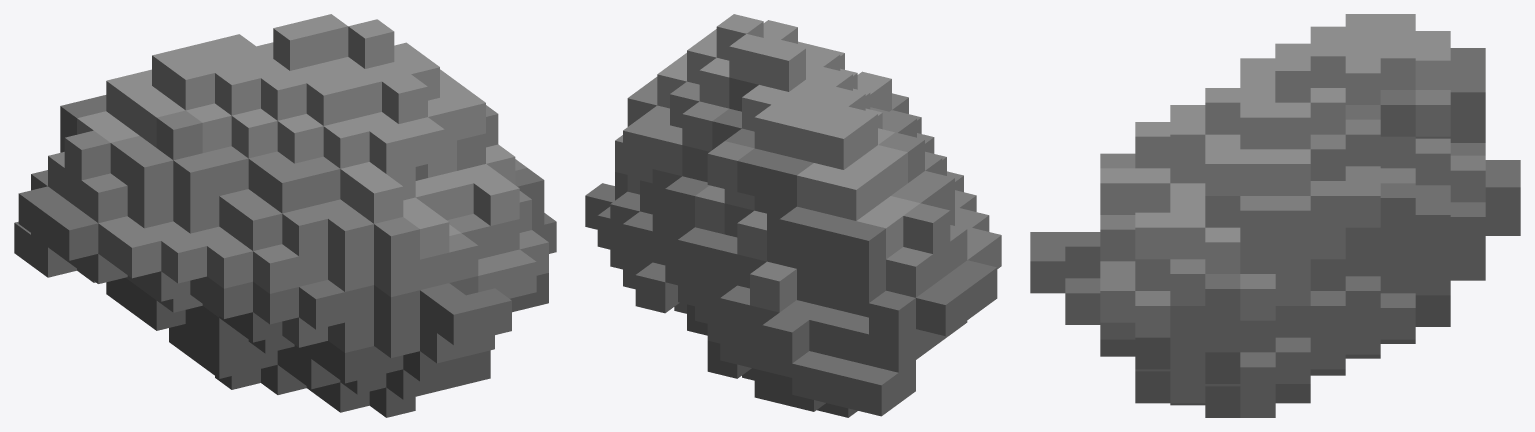
File: Rock_01.obj
3 views of the same model, side by side, from view 1: azimuth 30°, elevation 25°; view 2: azimuth 150°, elevation 25°; view 3: azimuth 270°, elevation 25° (orthographic). The views are drawn at different scales.
Size of the model in its own units: 15 by 11 by 14.
1 material, 1 textured.
